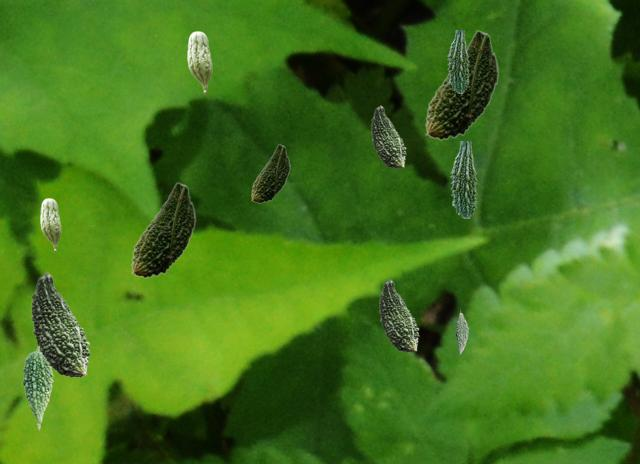ampalaya: (425, 30, 498, 139), (131, 182, 195, 277), (31, 272, 89, 376), (379, 279, 418, 351), (22, 346, 52, 429), (251, 144, 289, 202), (371, 105, 405, 167), (450, 141, 476, 217), (187, 31, 211, 93), (447, 30, 468, 92), (40, 198, 60, 251), (456, 309, 467, 353)
